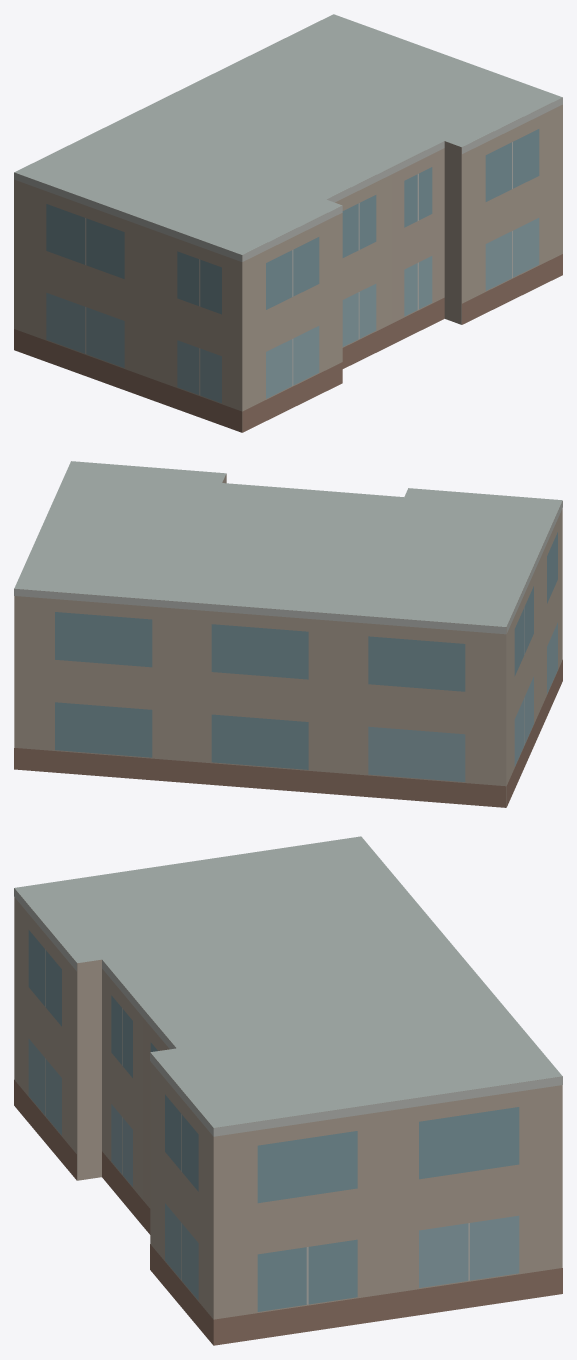
Rendered from survey-upis-32721274.glb.
3 views of the same model, one above another, from view 1: azimuth 30°, elevation 25°; view 2: azimuth 150°, elevation 25°; view 3: azimuth 270°, elevation 25° (orthographic). The views are drawn at different scales.
Parts seen in each view (by area): view 1: survey-upis-32721274.tmp; view 2: survey-upis-32721274.tmp; view 3: survey-upis-32721274.tmp.
Part boxes in pixels (x1,y1,x2,y2): survey-upis-32721274.tmp: [14, 14, 562, 432]; survey-upis-32721274.tmp: [14, 461, 562, 807]; survey-upis-32721274.tmp: [14, 836, 562, 1345].
Size of the model in its own units: 17.56 by 6.1 by 13.95.
